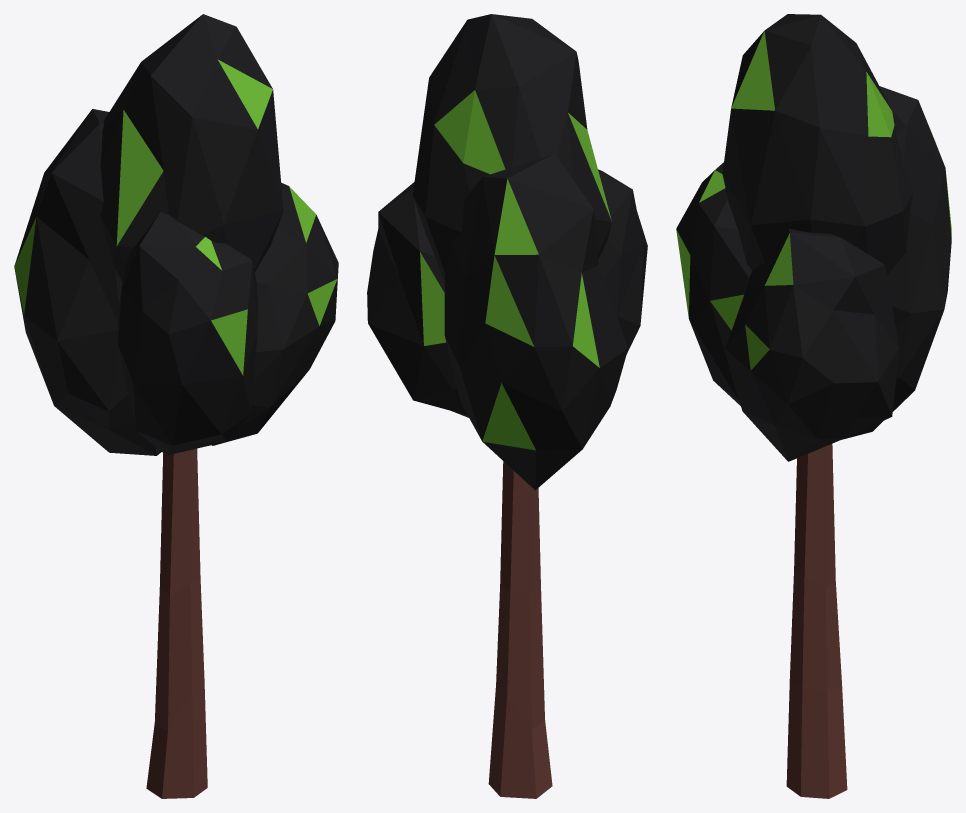
Rendered from Poplar_small.fbx.
3 renders of one model, left to right at view 1: azimuth 30°, elevation 25°; view 2: azimuth 150°, elevation 25°; view 3: azimuth 270°, elevation 25°, orthographic. The views are drawn at different scales.
Visible parts, largest first — view 1: poplar_crown_Small, poplar_trunk_Small; view 2: poplar_crown_Small, poplar_trunk_Small; view 3: poplar_crown_Small, poplar_trunk_Small.
Part boxes in pixels (x1,y1,x2,y2): poplar_crown_Small: (14, 14, 338, 455); poplar_trunk_Small: (146, 448, 207, 798); poplar_crown_Small: (367, 14, 647, 490); poplar_trunk_Small: (488, 461, 552, 798); poplar_crown_Small: (676, 14, 951, 461); poplar_trunk_Small: (786, 444, 847, 798).
Bounding box in the file's own units: 65.01 × 176 × 55.98.
